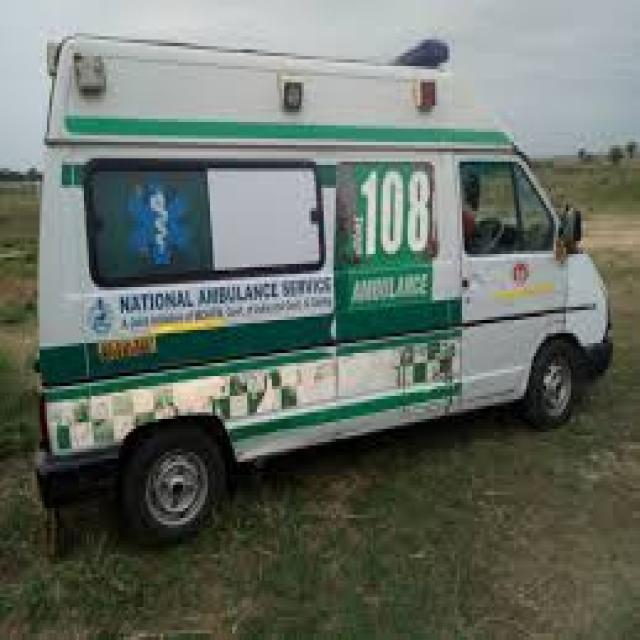Ambulance: (32, 30, 633, 521)
